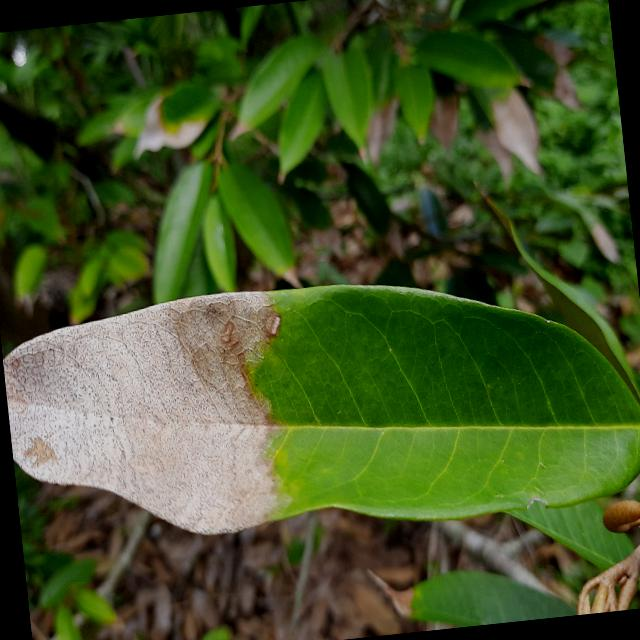Leaf Blight: (0, 244, 639, 580)
